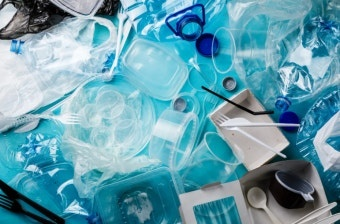plastic: (149, 107, 198, 170)
